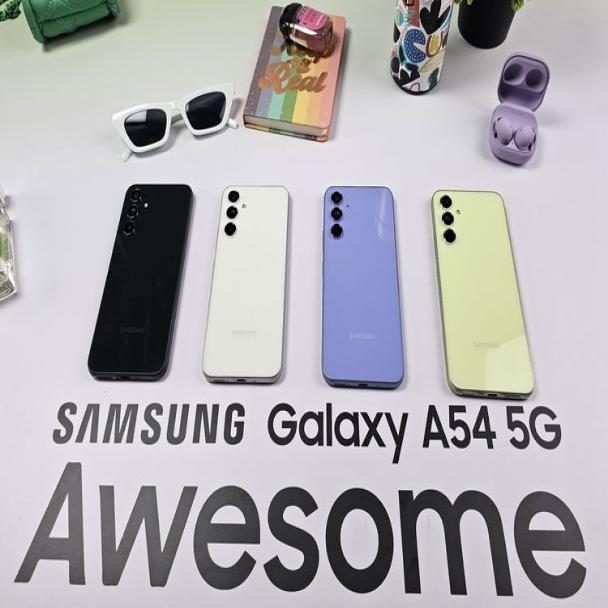Handphone: (78, 179, 203, 388), (428, 190, 542, 400), (195, 180, 290, 384), (319, 180, 405, 392)
